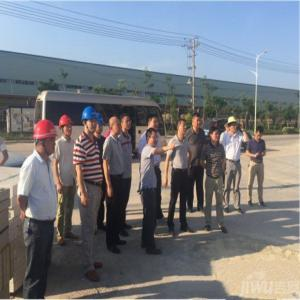blue: (82, 108, 98, 135), (96, 112, 105, 136)
none: (147, 129, 160, 150), (110, 117, 123, 137), (147, 114, 160, 132), (121, 113, 132, 134), (177, 119, 188, 136), (210, 127, 221, 144), (192, 114, 202, 130), (255, 126, 264, 142)
red: (35, 120, 57, 157), (59, 115, 74, 139)
yellow: (228, 117, 238, 135)
